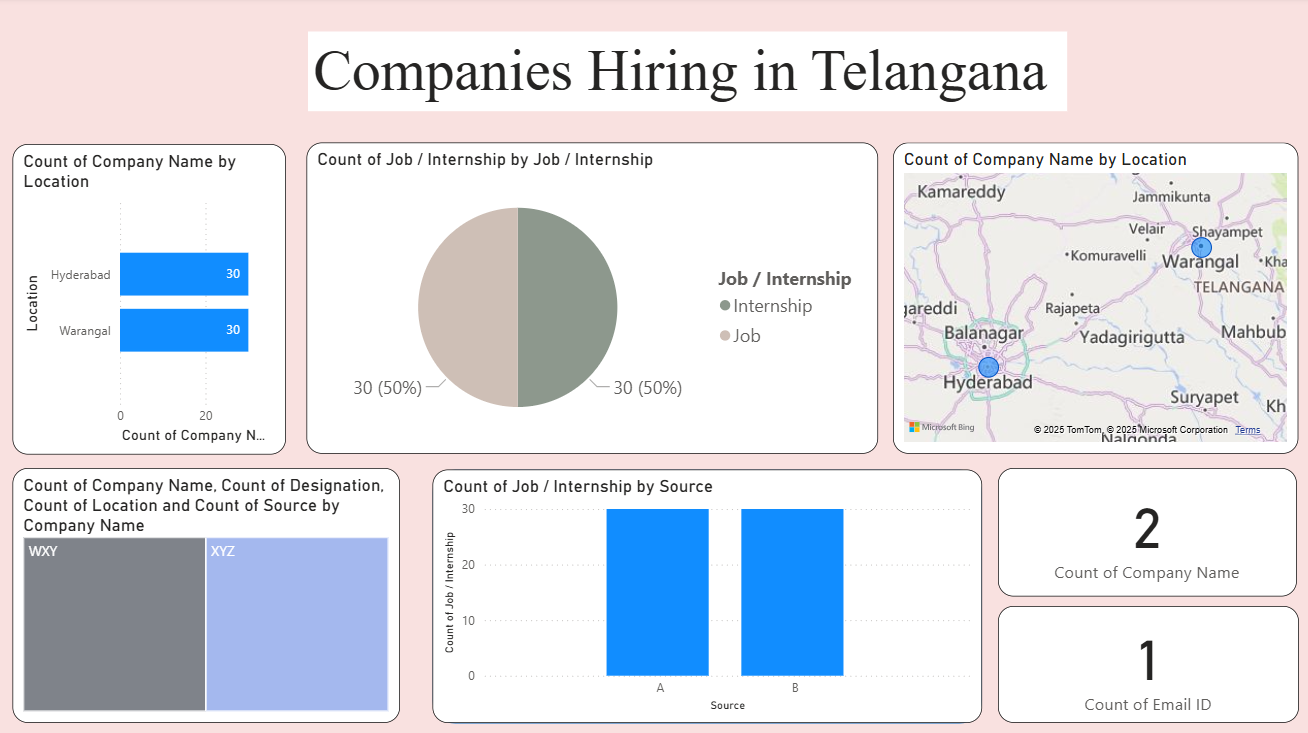

The page's visual inventory and layout, read from the dashboard file:
{"tool":"powerbi","page":{"name":"Page 1","canvas":[1280,720],"ordinal":0},"visuals":[{"type":"shape","box":[423.3,458.3,533.3,246.7],"z":0},{"type":"clusteredBarChart","fields":{"Category":["Demo.Location"],"Y":["CountNonNull(Demo.Company Name)"]},"box":[16.6,142.5,265,301.5],"z":1000},{"type":"columnChart","fields":{"Y":["CountNonNull(Demo.Job / Internship)"],"Category":["Demo.Source"]},"box":[422.9,457.8,533.7,246.3],"z":2000},{"type":"map","fields":{"Size":["CountNonNull(Telangana.Company Name)"],"Category":["Demo.Location"]},"box":[870.8,141.8,393.1,302.3],"z":3000},{"type":"pieChart","fields":{"Y":["CountNonNull(Demo.Job / Internship)"],"Category":["Demo.Job / Internship"]},"box":[301,141.8,554.8,302.3],"z":4000},{"type":"card","fields":{"Values":["Count(Demo.Email ID)"]},"box":[972.8,590.9,292.3,113.2],"z":5000},{"type":"card","fields":{"Values":["Count(Demo.Company Name)"]},"box":[972.8,456.5,289.8,124.4],"z":6000},{"type":"treemap","fields":{"Group":["Demo.Company Name"],"Values":["CountNonNull(Demo.Company Name)"]},"box":[16.2,456.5,375.7,247.5],"z":7000},{"type":"textbox","box":[302.3,33.6,736.4,77.1],"z":8000}]}

Visuals, with their boxes in screenshot pixels (x1, y1, x2, y2), scaled from the page's 1280x720 canvas onto the 1308x733 screenshot:
shape: detection(433, 467, 978, 718)
clusteredBarChart - Demo.Location x CountNonNull(Demo.Company Name): detection(17, 145, 288, 452)
columnChart - CountNonNull(Demo.Job / Internship) x Demo.Source: detection(432, 466, 978, 717)
map - CountNonNull(Telangana.Company Name) x Demo.Location: detection(890, 144, 1292, 452)
pieChart - CountNonNull(Demo.Job / Internship) x Demo.Job / Internship: detection(308, 144, 875, 452)
card - Count(Demo.Email ID): detection(994, 602, 1293, 717)
card - Count(Demo.Company Name): detection(994, 465, 1290, 591)
treemap - Demo.Company Name x CountNonNull(Demo.Company Name): detection(17, 465, 400, 717)
textbox: detection(309, 34, 1061, 113)
